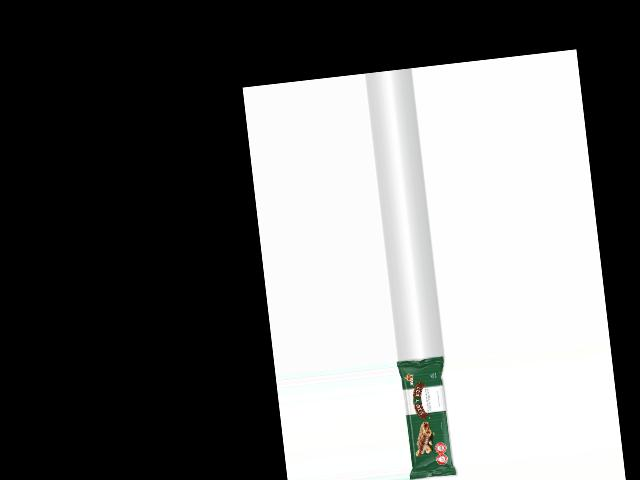chocolate: (396, 354, 459, 480)
